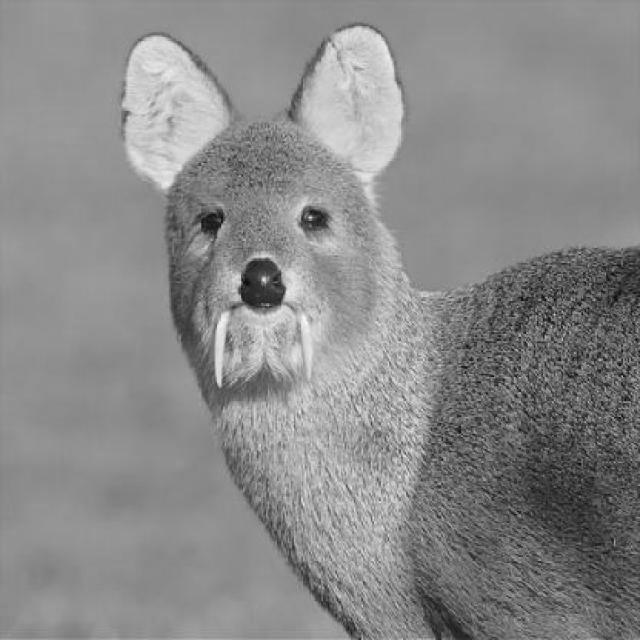Deer: (109, 9, 639, 638)
